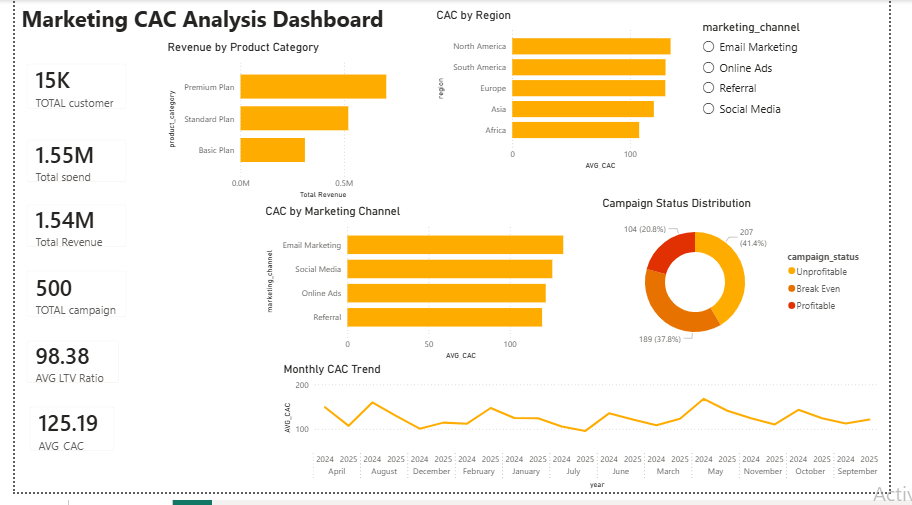

What the dashboard file says about the page in this screenshot:
{"tool":"powerbi","page":{"name":"Dashboard","canvas":[1280,720],"ordinal":0},"visuals":[{"type":"cardVisual","fields":{"Data":["marketing_analysis marketing_data.AVG LTV Ratio"]},"box":[0,481.5,169.8,96.6],"z":0},{"type":"cardVisual","fields":{"Data":["marketing_analysis marketing_data.AVG_CAC"]},"box":[4.4,578,158,99.5],"z":1000},{"type":"cardVisual","fields":{"Data":["marketing_analysis marketing_data.Total spend"]},"box":[0,187.3,180,96.6],"z":2000},{"type":"cardVisual","fields":{"Data":["marketing_analysis marketing_data.Total Revenue"]},"box":[0,282.4,180,96.6],"z":3000},{"type":"cardVisual","fields":{"Data":["marketing_analysis marketing_data.TOTAL customer"]},"box":[0,76.1,180,101],"z":4000},{"type":"cardVisual","fields":{"Data":["marketing_analysis marketing_data.TOTAL campaign"]},"box":[0,379,180,102.4],"z":5000},{"type":"textbox","box":[4.4,0,547.3,76.1],"z":6000},{"type":"clusteredBarChart","title":"CAC by Marketing Channel","fields":{"Category":["marketing_analysis marketing_data.marketing_channel"],"Y":["marketing_analysis marketing_data.AVG_CAC"]},"box":[361.5,298.5,472.7,232.7],"z":7000},{"type":"clusteredBarChart","title":"CAC by Region","fields":{"Category":["marketing_analysis marketing_data.region"],"Y":["marketing_analysis marketing_data.AVG_CAC"]},"box":[611.7,11.7,389.3,241.5],"z":8000},{"type":"donutChart","title":"Campaign Status Distribution","fields":{"Category":["marketing_analysis marketing_data.campaign_status"],"Y":["marketing_analysis marketing_data.TOTAL campaign"]},"box":[854.6,286.8,401,232.7],"z":9000},{"type":"clusteredBarChart","title":"Revenue by Product Category","fields":{"Category":["marketing_analysis marketing_data.product_category"],"Y":["marketing_analysis marketing_data.Total Revenue"]},"box":[218,58.5,373.2,237.1],"z":10000},{"type":"lineChart","title":"Monthly CAC Trend","fields":{"Y":["marketing_analysis marketing_data.AVG_CAC"],"Category":["marketing_analysis marketing_data.month","marketing_analysis marketing_data.year"]},"box":[387.8,529.8,882.4,190.2],"z":11000},{"type":"listSlicer","fields":{"Values":["marketing_analysis marketing_data.marketing_channel"]},"box":[1000.5,29.3,279.5,184.4],"z":12000}]}

Visuals, with their boxes in screenshot pixels (x1, y1, x2, y2), scaled from the page's 1280x720 canvas onto the 912x505 screenshot:
cardVisual - marketing_analysis marketing_data.AVG LTV Ratio: (left=0, top=338, right=121, bottom=405)
cardVisual - marketing_analysis marketing_data.AVG_CAC: (left=3, top=405, right=116, bottom=475)
cardVisual - marketing_analysis marketing_data.Total spend: (left=0, top=131, right=128, bottom=199)
cardVisual - marketing_analysis marketing_data.Total Revenue: (left=0, top=198, right=128, bottom=266)
cardVisual - marketing_analysis marketing_data.TOTAL customer: (left=0, top=53, right=128, bottom=124)
cardVisual - marketing_analysis marketing_data.TOTAL campaign: (left=0, top=266, right=128, bottom=338)
textbox: (left=3, top=0, right=393, bottom=53)
"CAC by Marketing Channel" clusteredBarChart: (left=258, top=209, right=594, bottom=373)
"CAC by Region" clusteredBarChart: (left=436, top=8, right=713, bottom=178)
"Campaign Status Distribution" donutChart: (left=609, top=201, right=895, bottom=364)
"Revenue by Product Category" clusteredBarChart: (left=155, top=41, right=421, bottom=207)
"Monthly CAC Trend" lineChart: (left=276, top=372, right=905, bottom=504)
listSlicer - marketing_analysis marketing_data.marketing_channel: (left=713, top=21, right=911, bottom=150)
